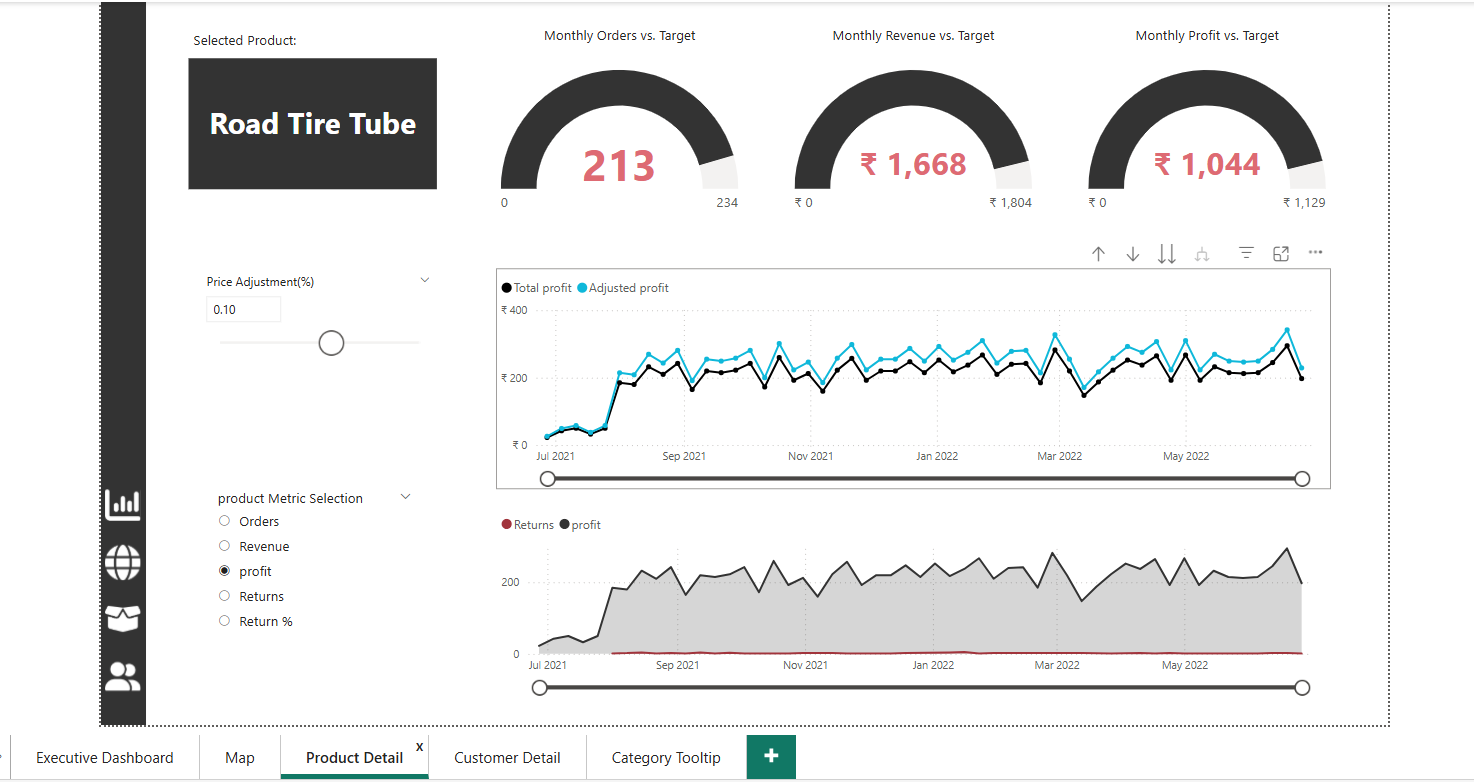

The dashboard page shown, as its layout file describes it:
{"tool":"powerbi","page":{"name":"Product Detail","canvas":[1280,720],"ordinal":2},"visuals":[{"type":"shape","box":[0,0,45,720],"z":0},{"type":"actionButton","box":[0,592.5,44.8,43.5],"z":0,"group":"g1"},{"type":"gauge","title":"Monthly Orders vs. Target","fields":{"Y":["Measure Table.Total Orders"],"MaxValue":["Measure Table.Order Target"]},"box":[393.1,23.6,246.3,216.4],"z":1000},{"type":"actionButton","box":[0,649.3,44.8,43.5],"z":1000,"group":"g1"},{"type":"actionButton","box":[0,478.9,44.8,43.5],"z":2000,"group":"g1"},{"type":"gauge","title":"Monthly Revenue vs. Target","fields":{"Y":["Measure Table.Total Revenue"],"MaxValue":["Measure Table.Revenue Traget"]},"box":[685.4,23.6,246.3,216.4],"z":2000},{"type":"gauge","title":"Monthly Profit vs. Target","fields":{"Y":["Measure Table.Total profit"],"MaxValue":["Measure Table.Profit Target"]},"box":[977.8,23.6,246.3,216.4],"z":3000},{"type":"actionButton","box":[0,535.7,44.8,43.5],"z":3000,"group":"g1"},{"type":"lineChart","title":"Profit Trending","fields":{"Category":["Calendar Lookup.Date Hierarchy.Start of Year","Calendar Lookup.Date Hierarchy.Start of Month","Calendar Lookup.Date Hierarchy.Start of Week","Calendar Lookup.Date Hierarchy.Date"],"Y":["Measure Table.Total profit","Measure Table.Adjusted profit"]},"box":[393.1,265,831,220.2],"z":4000},{"type":"areaChart","title":"Return Trending","fields":{"Y":["Measure Table.Total Returns","Measure Table.Total profit"],"Category":["Calendar Lookup.Date Hierarchy.Start of Year","Calendar Lookup.Date Hierarchy.Start of Month","Calendar Lookup.Date Hierarchy.Start of Week","Calendar Lookup.Date Hierarchy.Date"]},"box":[393.1,500.1,831,192.8],"z":5000},{"type":"card","fields":{"Values":["Min(Product Lookup.ProductName)"]},"box":[87.1,56,247.5,130.6],"z":6000},{"type":"textbox","box":[87.1,23.6,129.4,33.6],"z":7000},{"type":"group","id":"g1","title":"Navigation Buttons","box":[0,478.9,44.8,214],"z":8000},{"type":"slicer","fields":{"Values":["Price Adjustment(%).Price Adjustment(%)"]},"box":[92.1,265,247.5,138.1],"z":9000},{"type":"slicer","fields":{"Values":["product Metric Selection.product Metric Selection"]},"box":[103.2,478.9,217.7,191.6],"z":10000}]}

Visuals, with their boxes on the page's 1280x720 design canvas (x1, y1, x2, y2). These are canvas units, not pixel positions in the 1474x782 screenshot, which may show the page scaled, cropped or inside an application window:
shape: detection(0, 0, 45, 720)
actionButton: detection(0, 592, 45, 636)
"Monthly Orders vs. Target" gauge: detection(393, 24, 639, 240)
actionButton: detection(0, 649, 45, 693)
actionButton: detection(0, 479, 45, 522)
"Monthly Revenue vs. Target" gauge: detection(685, 24, 932, 240)
"Monthly Profit vs. Target" gauge: detection(978, 24, 1224, 240)
actionButton: detection(0, 536, 45, 579)
"Profit Trending" lineChart: detection(393, 265, 1224, 485)
"Return Trending" areaChart: detection(393, 500, 1224, 693)
card - Min(Product Lookup.ProductName): detection(87, 56, 335, 187)
textbox: detection(87, 24, 216, 57)
"Navigation Buttons" group: detection(0, 479, 45, 693)
slicer - Price Adjustment(%).Price Adjustment(%): detection(92, 265, 340, 403)
slicer - product Metric Selection.product Metric Selection: detection(103, 479, 321, 670)
